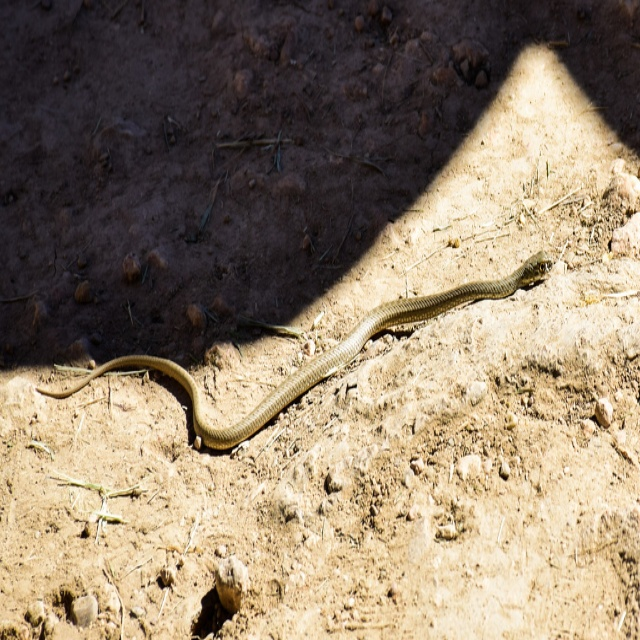Snake: (35, 255, 550, 452)
